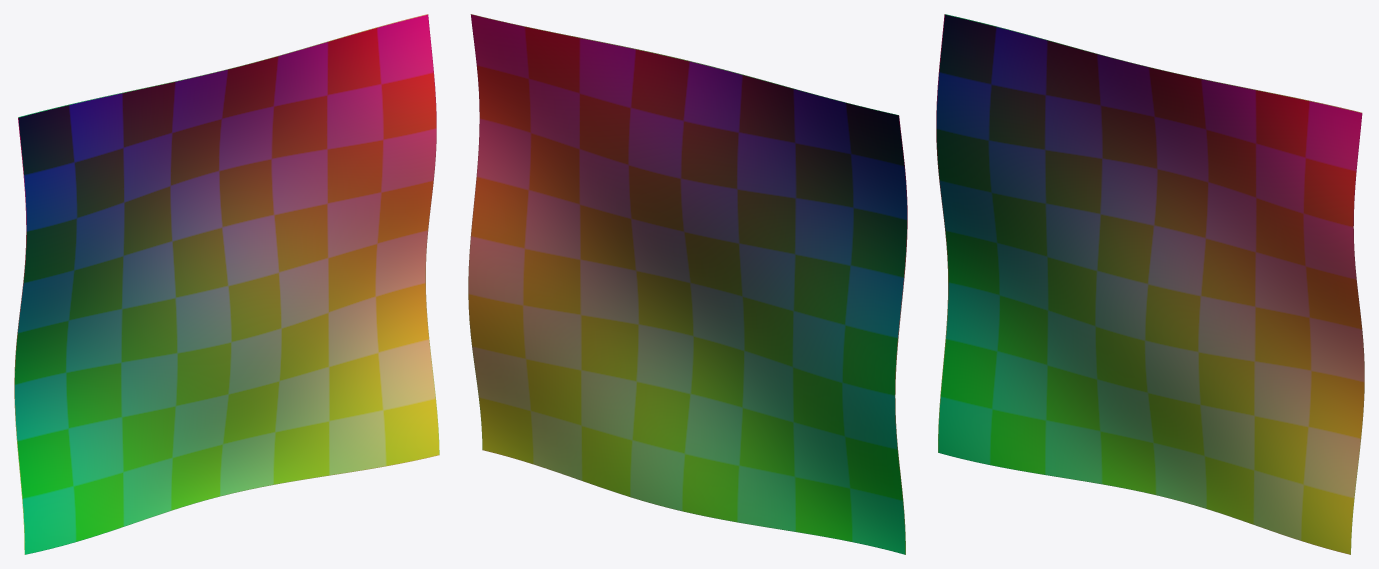
Rendered from Tile_+030_+000.obj.
3 renders of one model, left to right at view 1: azimuth 30°, elevation 25°; view 2: azimuth 150°, elevation 25°; view 3: azimuth 330°, elevation 25°, orthographic. The views are drawn at different scales.
Size of the model in its own units: 100 by 100 by 5.92.
